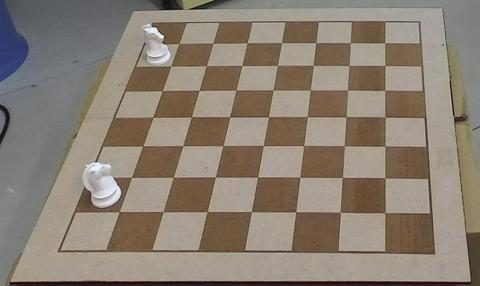xcorner: (346, 38, 356, 48), (311, 38, 321, 48), (276, 38, 286, 48), (241, 38, 251, 48), (206, 38, 216, 48), (171, 38, 181, 48), (381, 61, 391, 71), (345, 61, 355, 71), (308, 61, 318, 71), (272, 61, 282, 71), (236, 61, 246, 71), (200, 61, 210, 71), (163, 61, 173, 71), (381, 86, 391, 96), (343, 86, 353, 96), (306, 86, 316, 96), (268, 86, 278, 96), (230, 86, 240, 96), (155, 85, 165, 95), (381, 113, 391, 123), (342, 113, 352, 123), (303, 113, 313, 123), (224, 112, 234, 122), (185, 112, 195, 122), (145, 112, 155, 122), (341, 142, 351, 152), (300, 142, 310, 152), (259, 142, 269, 152), (218, 142, 228, 152), (135, 142, 145, 152), (382, 174, 392, 184), (339, 174, 349, 184), (296, 174, 306, 184), (253, 174, 263, 184), (210, 174, 220, 184), (167, 174, 177, 184), (124, 174, 134, 184), (382, 209, 392, 219), (337, 209, 347, 219), (292, 209, 302, 219), (247, 209, 257, 219), (202, 209, 212, 219), (157, 209, 167, 219), (112, 209, 122, 219), (381, 38, 390, 48), (382, 142, 391, 152), (177, 142, 186, 152), (193, 86, 202, 95), (264, 113, 273, 122)
